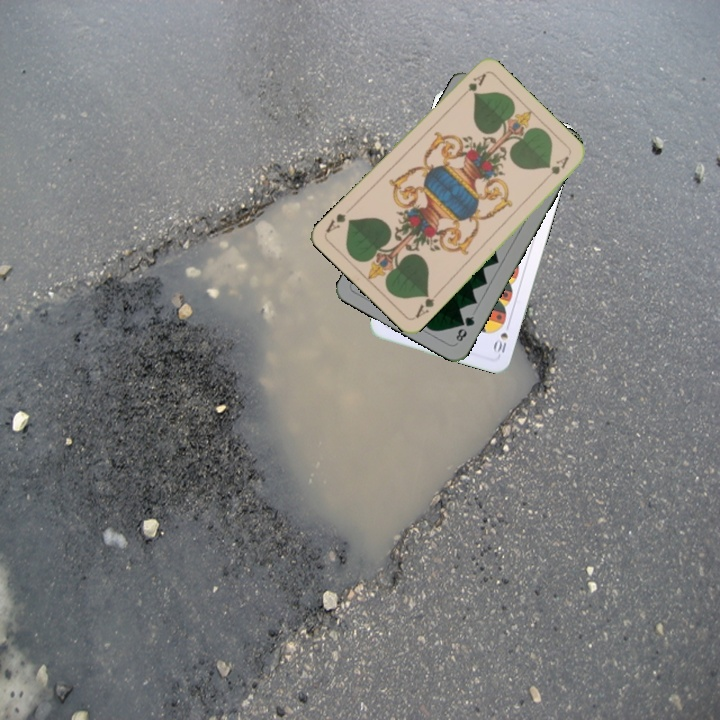G8: (452, 312, 477, 344)
GA: (455, 69, 489, 100), (411, 288, 442, 321)
S10: (490, 328, 511, 358)
